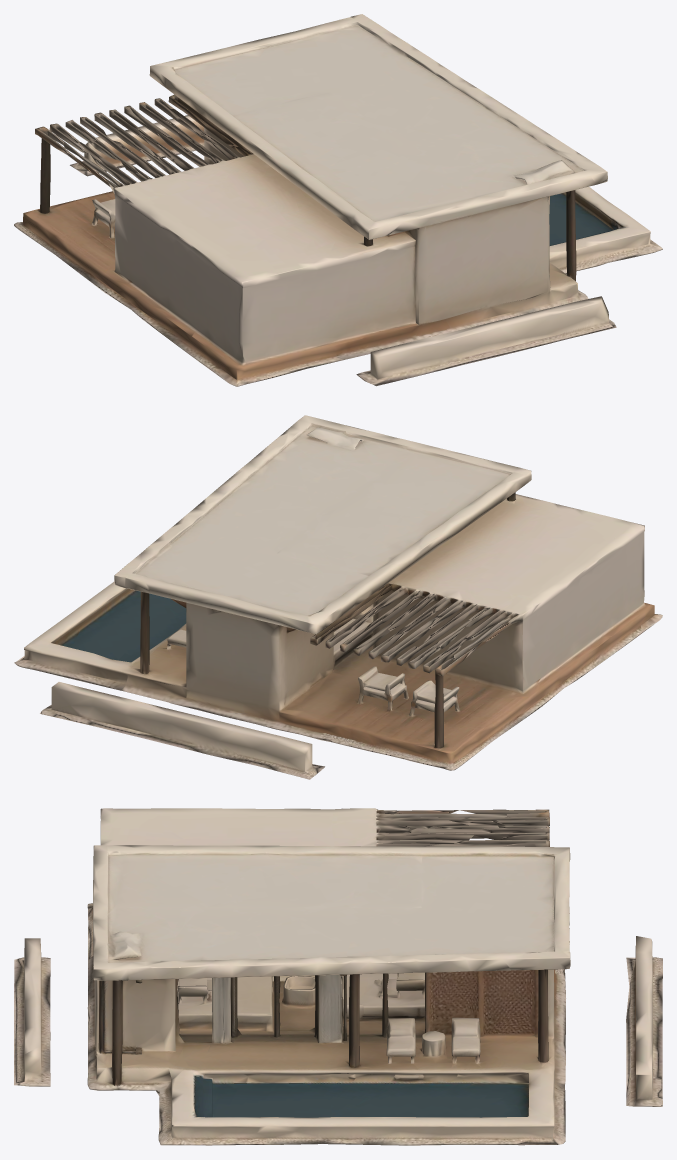
The model's file is private-villa.glb.
3 views of the same model, one above another, from view 1: azimuth 30°, elevation 25°; view 2: azimuth 150°, elevation 25°; view 3: azimuth 270°, elevation 25° (orthographic). The views are drawn at different scales.
Visible parts, largest first — view 1: tripo_node_d2e87480-5346-4bc8-abb3-c918f71d8d77; view 2: tripo_node_d2e87480-5346-4bc8-abb3-c918f71d8d77; view 3: tripo_node_d2e87480-5346-4bc8-abb3-c918f71d8d77.
Part boxes in pixels (<box>): tripo_node_d2e87480-5346-4bc8-abb3-c918f71d8d77: <box>14,14,662,386</box>; tripo_node_d2e87480-5346-4bc8-abb3-c918f71d8d77: <box>14,415,662,779</box>; tripo_node_d2e87480-5346-4bc8-abb3-c918f71d8d77: <box>14,808,662,1145</box>.
Bounding box in the file's own units: 0.8807 × 0.2336 × 1.
Materials: 1 (1 with a texture image).
